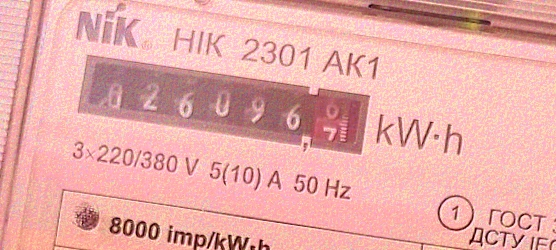0: (210, 85, 235, 122), (102, 77, 127, 112)
2: (138, 78, 164, 116)
6: (174, 85, 198, 123), (282, 98, 305, 133), (321, 93, 344, 123)
7: (319, 122, 339, 146)
9: (246, 93, 269, 127)
screen: (66, 43, 379, 167)
